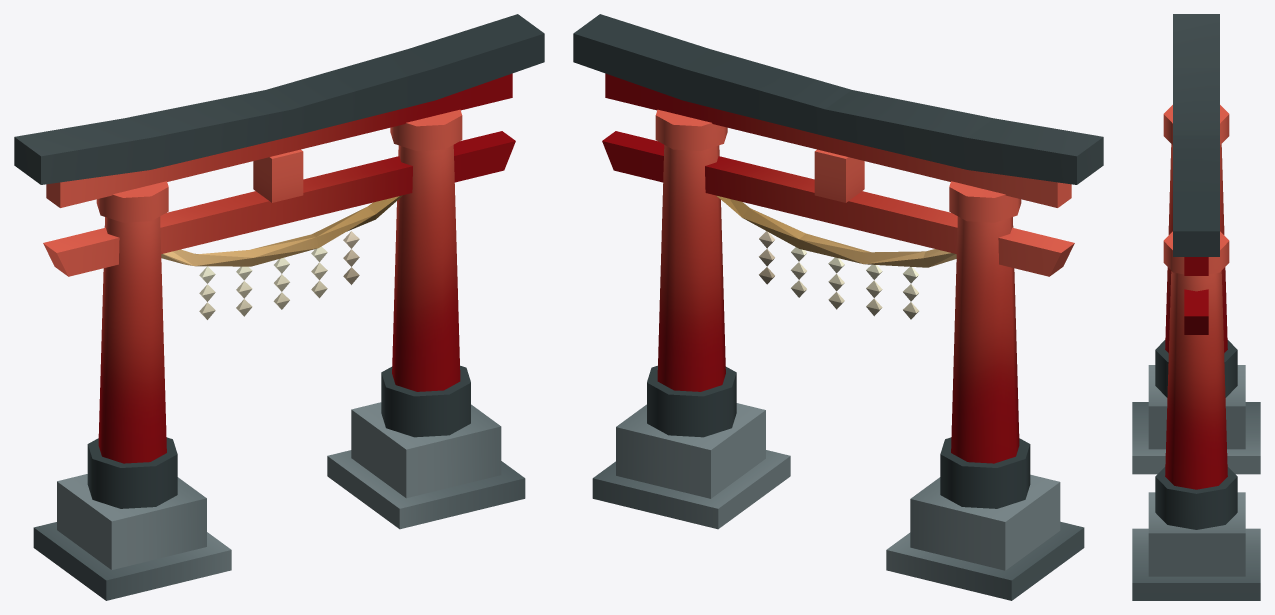
Rendered from ToriGate.fbx.
3 renders of one model, left to right at view 1: azimuth 30°, elevation 25°; view 2: azimuth 150°, elevation 25°; view 3: azimuth 270°, elevation 25°, orthographic. The views are drawn at different scales.
Parts seen in each view (by area): view 1: ToriGate_Beams, ToriGate_Pillars, ToriGate_Base, ToriGate_Shide; view 2: ToriGate_Beams, ToriGate_Pillars, ToriGate_Base, ToriGate_Shide; view 3: ToriGate_Pillars, ToriGate_Base, ToriGate_Beams.
Boxes of the visible parts, bbox=[...] form: ToriGate_Beams: bbox=[14, 14, 544, 276]; ToriGate_Pillars: bbox=[87, 109, 470, 508]; ToriGate_Base: bbox=[33, 402, 525, 600]; ToriGate_Shide: bbox=[161, 195, 402, 319]; ToriGate_Beams: bbox=[573, 14, 1103, 276]; ToriGate_Pillars: bbox=[647, 109, 1030, 508]; ToriGate_Base: bbox=[592, 403, 1084, 600]; ToriGate_Shide: bbox=[716, 195, 956, 319]; ToriGate_Pillars: bbox=[1155, 105, 1237, 529]; ToriGate_Base: bbox=[1132, 365, 1260, 600]; ToriGate_Beams: bbox=[1173, 14, 1219, 334].
Bounding box in the file's own units: 5.15 × 4.28 × 1.28.
Materials: 1 (1 with a texture image).
